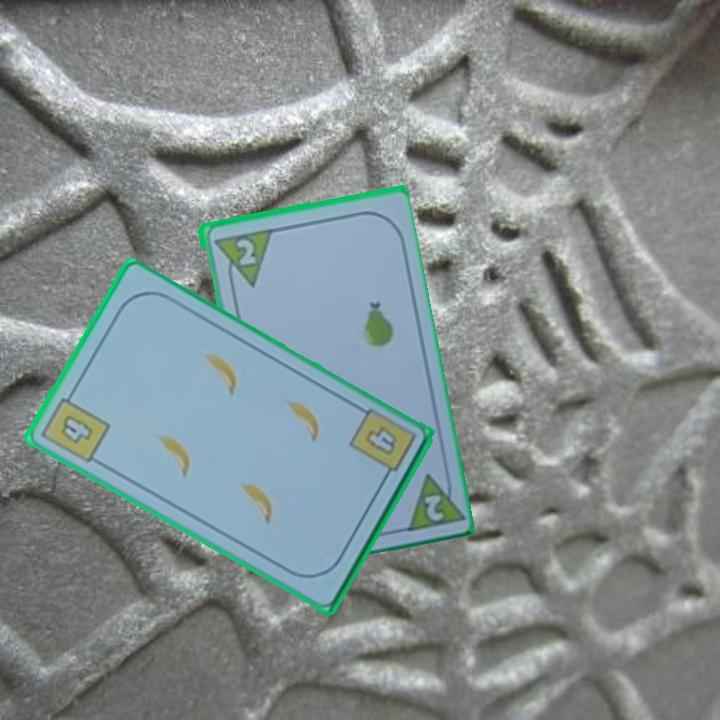2p: (399, 465, 464, 534), (232, 234, 259, 268)
4b: (37, 386, 114, 466), (361, 423, 400, 459)
